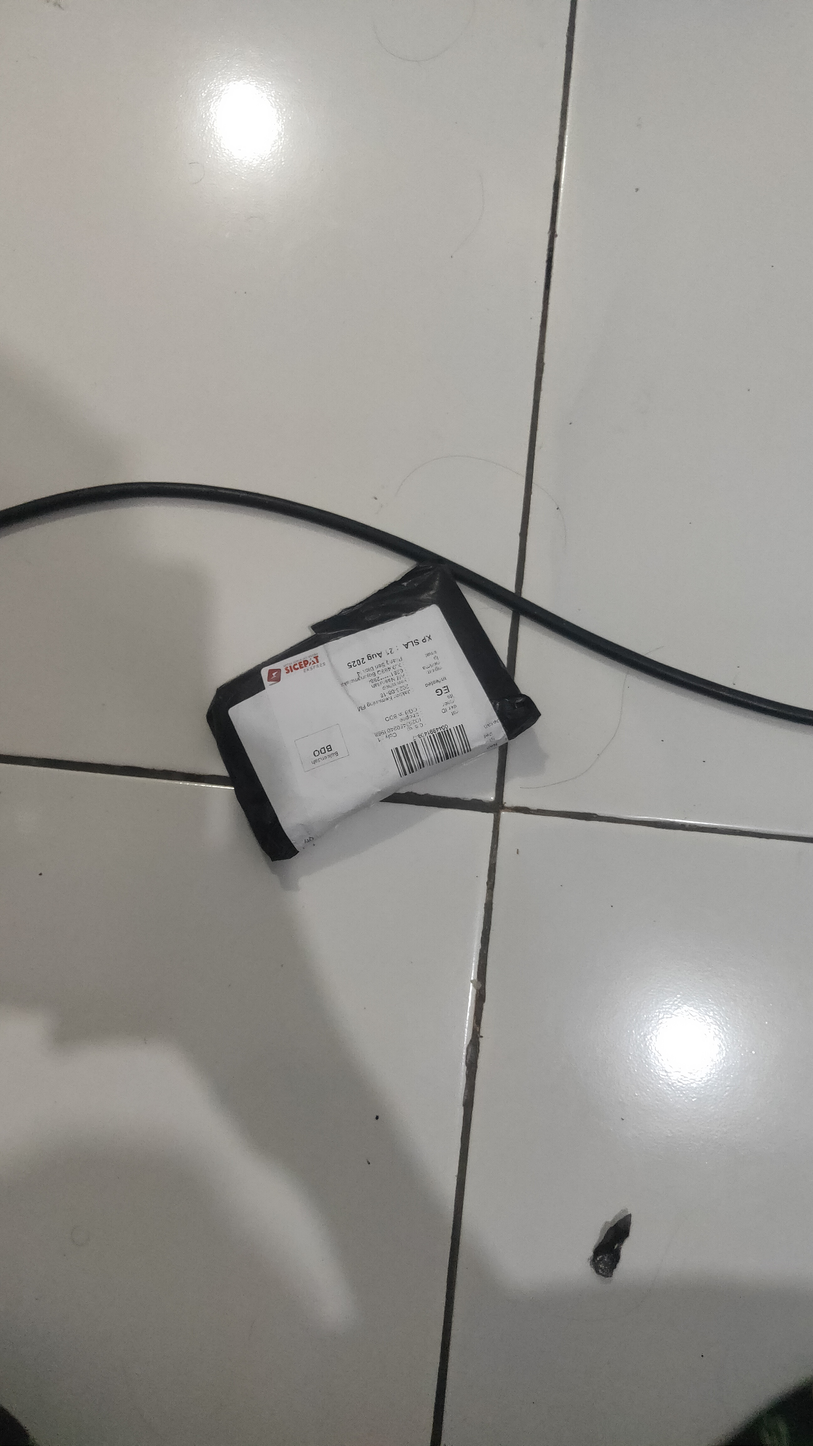undamaged: (203, 559, 548, 869)
